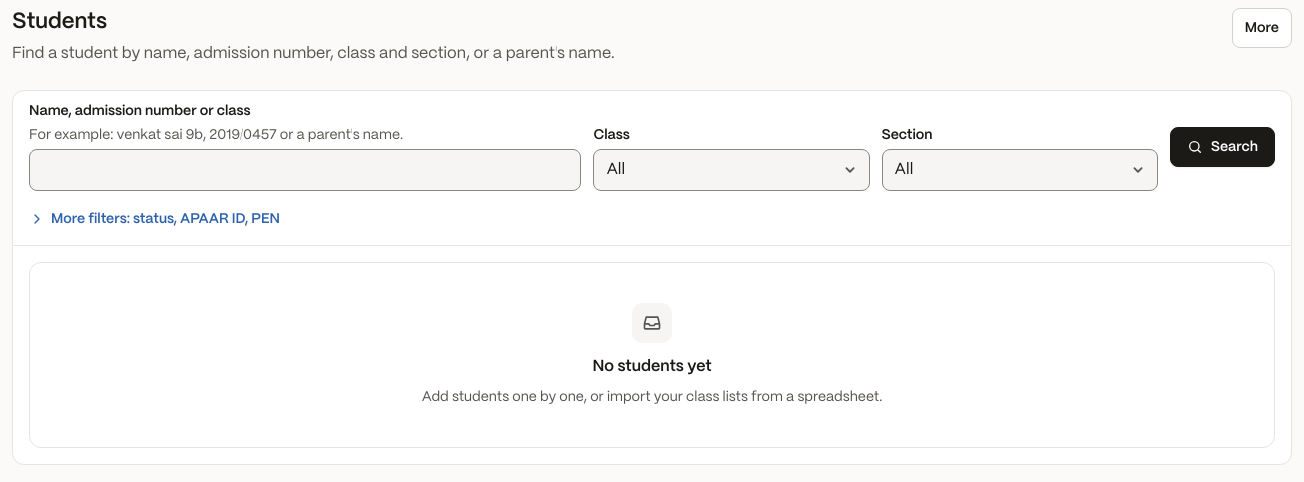
Scenario: US-302 / FR-STU-010: find students › pages with the cursor in the POST body, keeping the name out of every URL
Expected: the text "No students yet" is shown, x1=592 y1=355 x2=712 y2=379
Type "Venkata" into the search field labelled "Name, admission number or class" at (305,170), box x1=29 y1=149 x2=581 y2=191
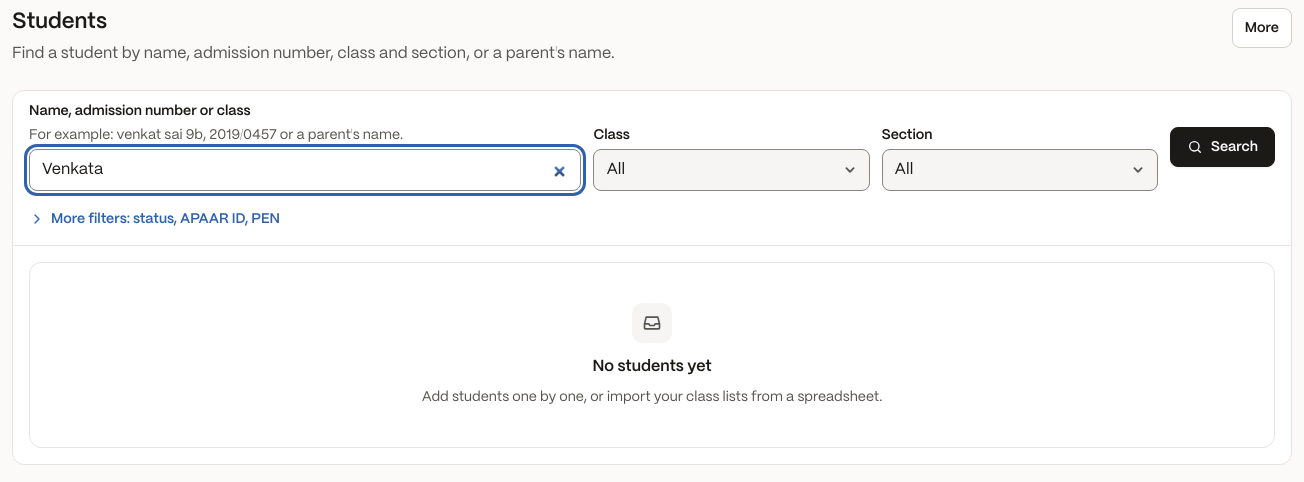
Click the button "Search" at (1222,147), box x1=1170 y1=127 x2=1275 y2=167
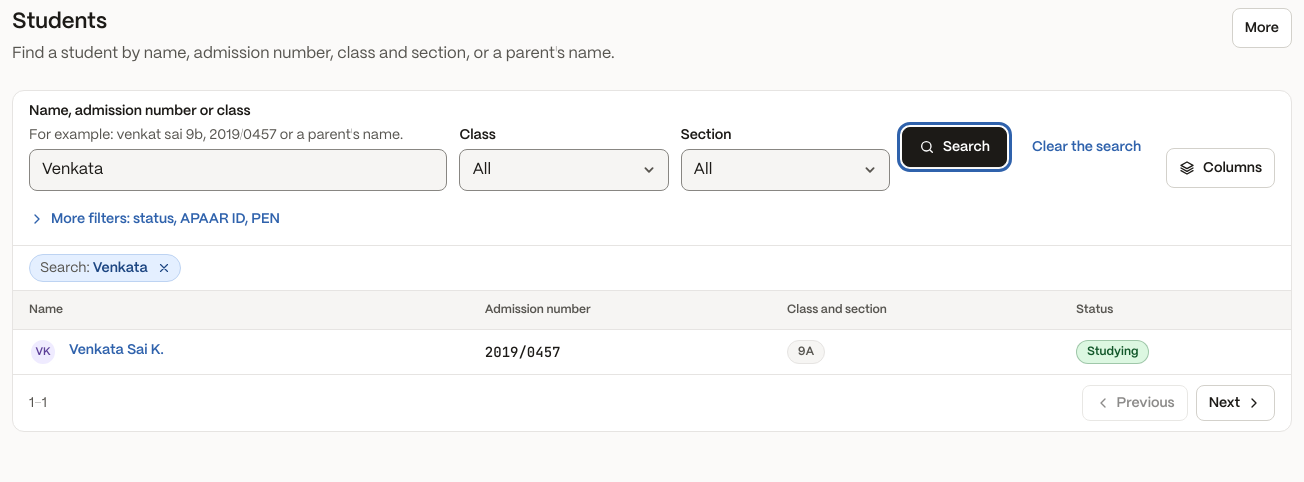
Expected: the link "Venkata Sai K." is shown, x1=69 y1=343 x2=164 y2=357
Click the button "Next" at (1235,403), box x1=1196 y1=385 x2=1275 y2=421
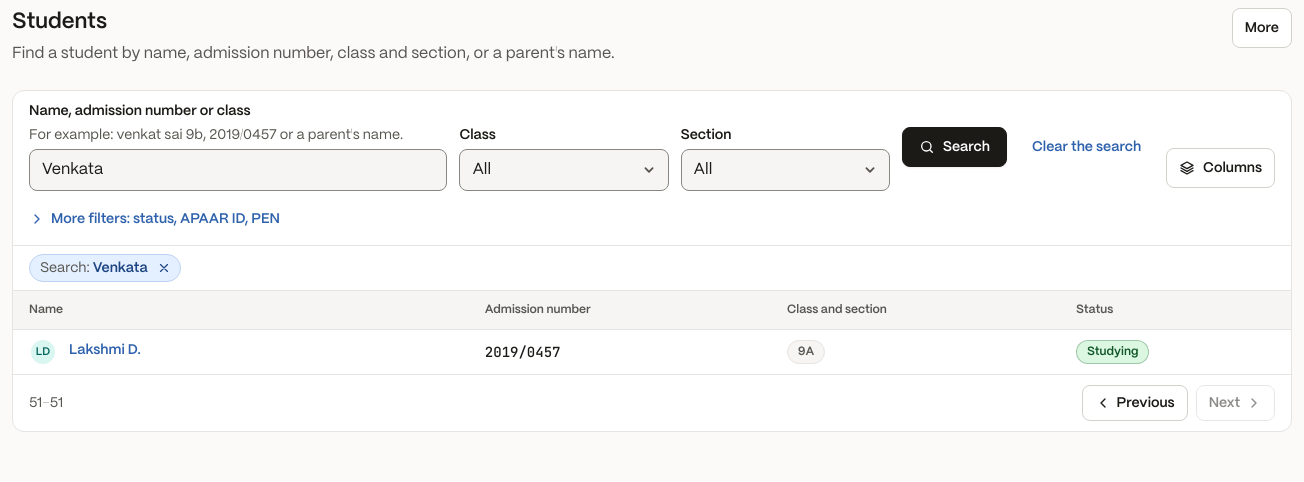
Expected: the link "Lakshmi D." is shown, x1=69 y1=343 x2=141 y2=357
